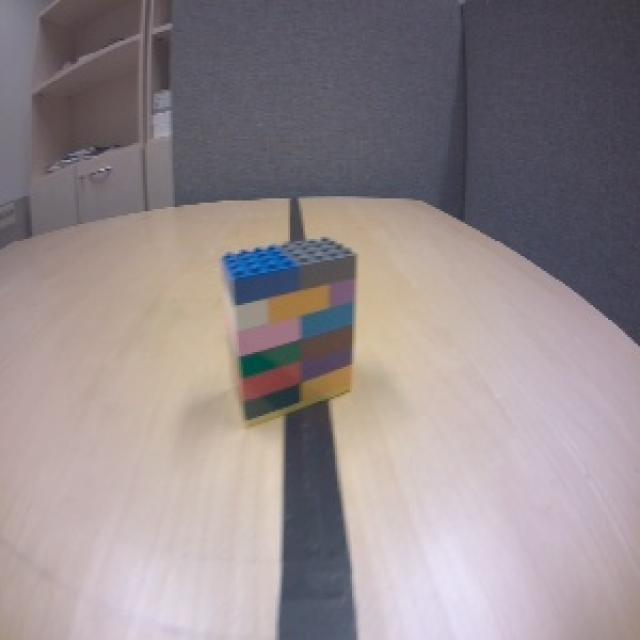obstacle: (217, 237, 358, 433)
